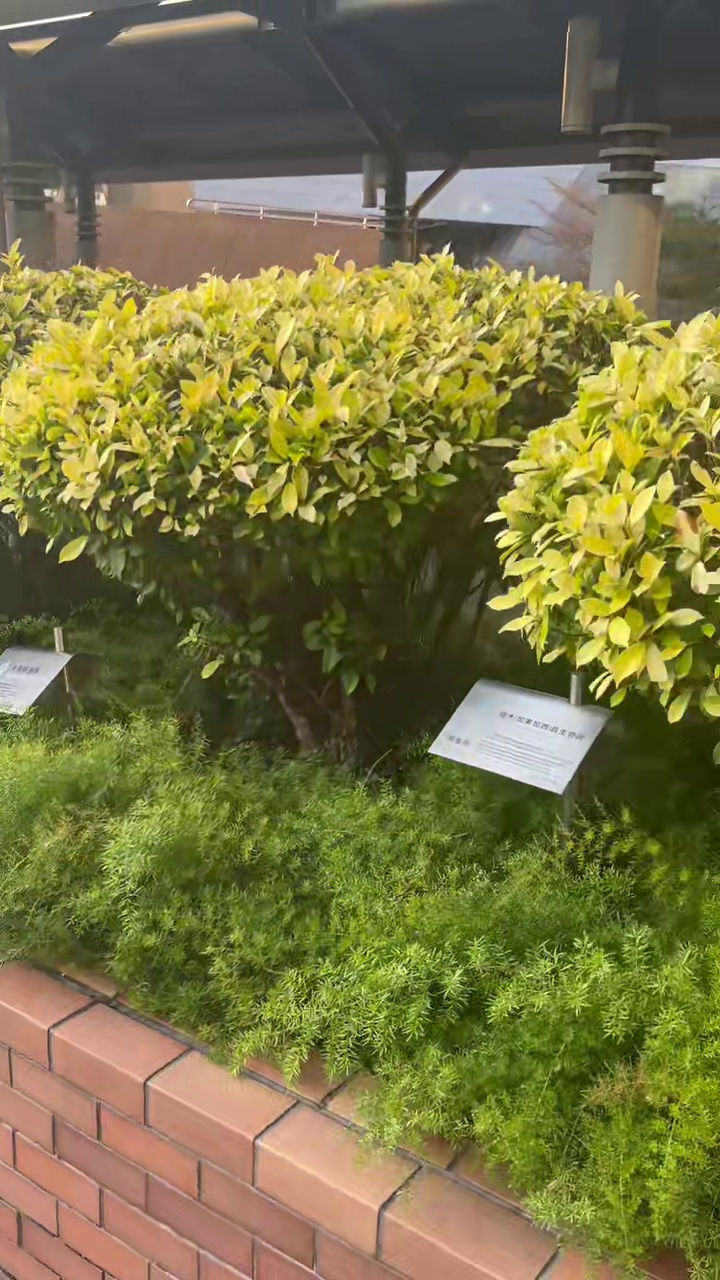Golden-leaves Fig: (0, 255, 648, 763)
